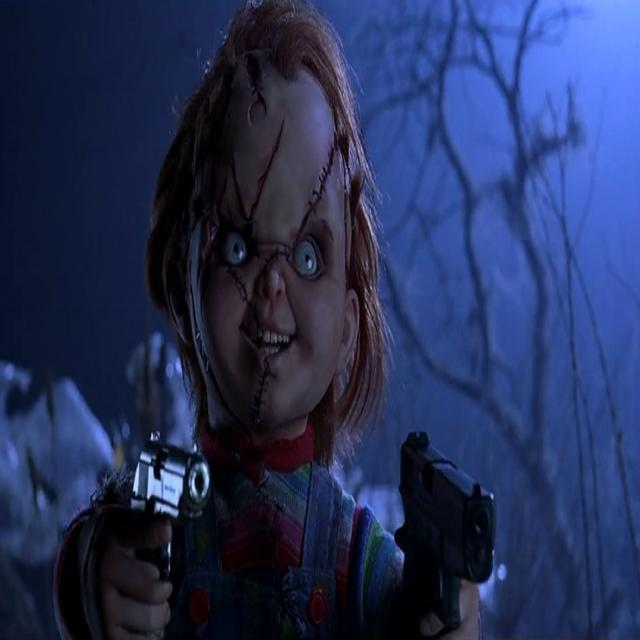gun-knife-thesis - v11 Yolov5 augmented: (389, 423, 499, 639), (119, 424, 215, 640)
